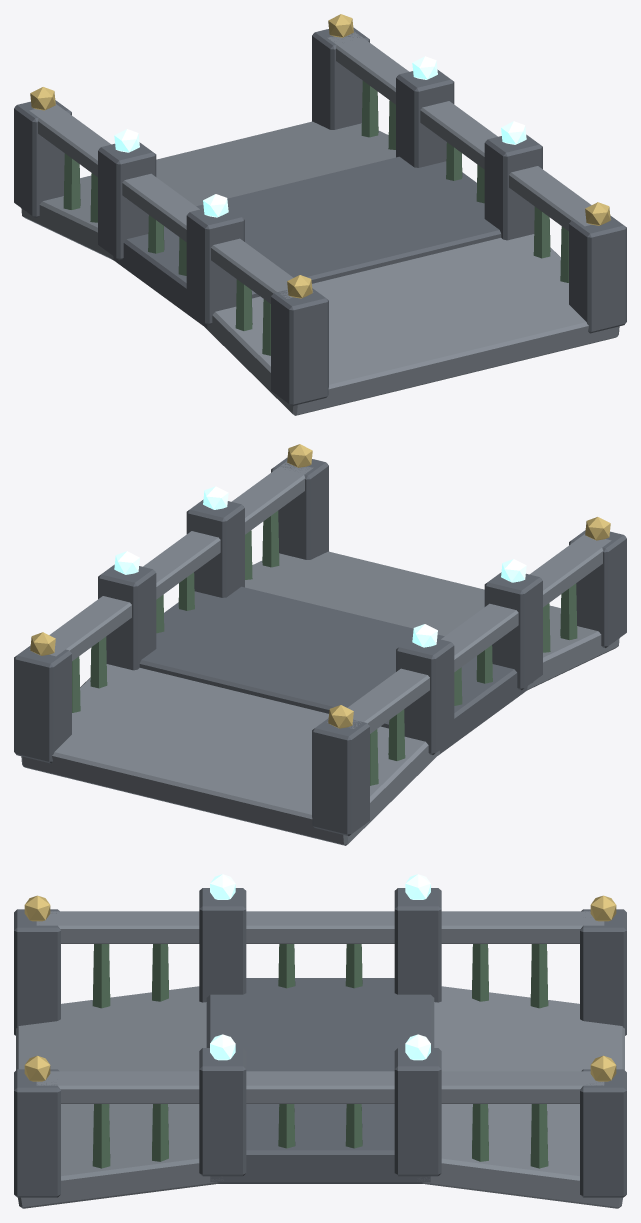
The model's file is outdoor_bridge.glb.
3 views of the same model, one above another, from view 1: azimuth 30°, elevation 25°; view 2: azimuth 150°, elevation 25°; view 3: azimuth 270°, elevation 25° (orthographic). The views are drawn at different scales.
Parts seen in each view (by area): view 1: Outdoor_Bridge; view 2: Outdoor_Bridge; view 3: Outdoor_Bridge.
Boxes of the visible parts, box(x1,y1,x2,y2) form: Outdoor_Bridge: box(14, 14, 626, 415); Outdoor_Bridge: box(14, 444, 626, 845); Outdoor_Bridge: box(14, 874, 626, 1208).
Bounding box in the file's own units: 3.57 × 1.54 × 5.1.
